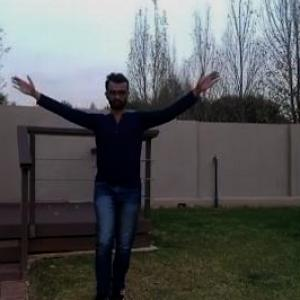takeoff: (8, 69, 219, 299)
